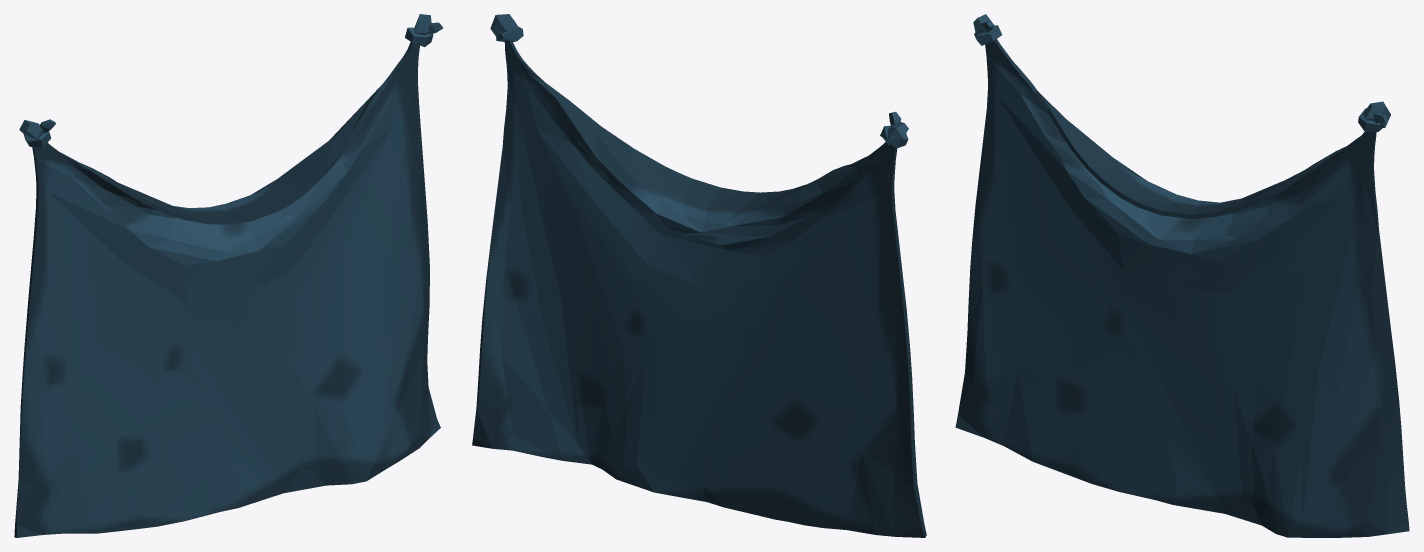
The model's file is SM_Prop_Sheet_04.obj.
3 views of the same model, side by side, from view 1: azimuth 30°, elevation 25°; view 2: azimuth 150°, elevation 25°; view 3: azimuth 330°, elevation 25° (orthographic).
Parts seen in each view (by area): view 1: SM_Prop_Sheet_04_0; view 2: SM_Prop_Sheet_04_0; view 3: SM_Prop_Sheet_04_0.
Boxes of the visible parts, <box> form: SM_Prop_Sheet_04_0: <box>14,14,443,537</box>; SM_Prop_Sheet_04_0: <box>472,14,926,537</box>; SM_Prop_Sheet_04_0: <box>955,14,1409,537</box>.
Bounding box in the file's own units: 3.09 × 2.96 × 0.4204.
1 material, 1 textured.
